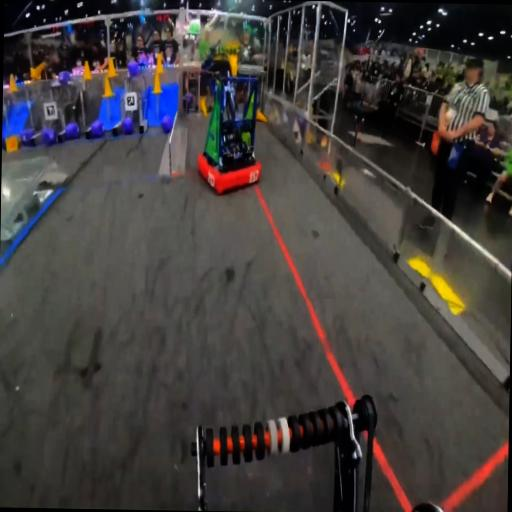robot: (196, 51, 265, 196)
